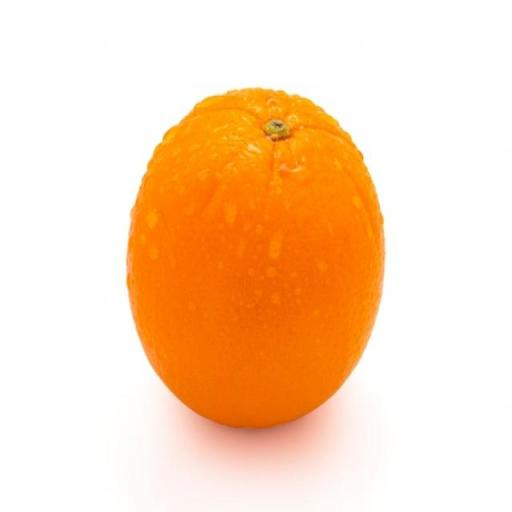fruit: (128, 89, 383, 427)
